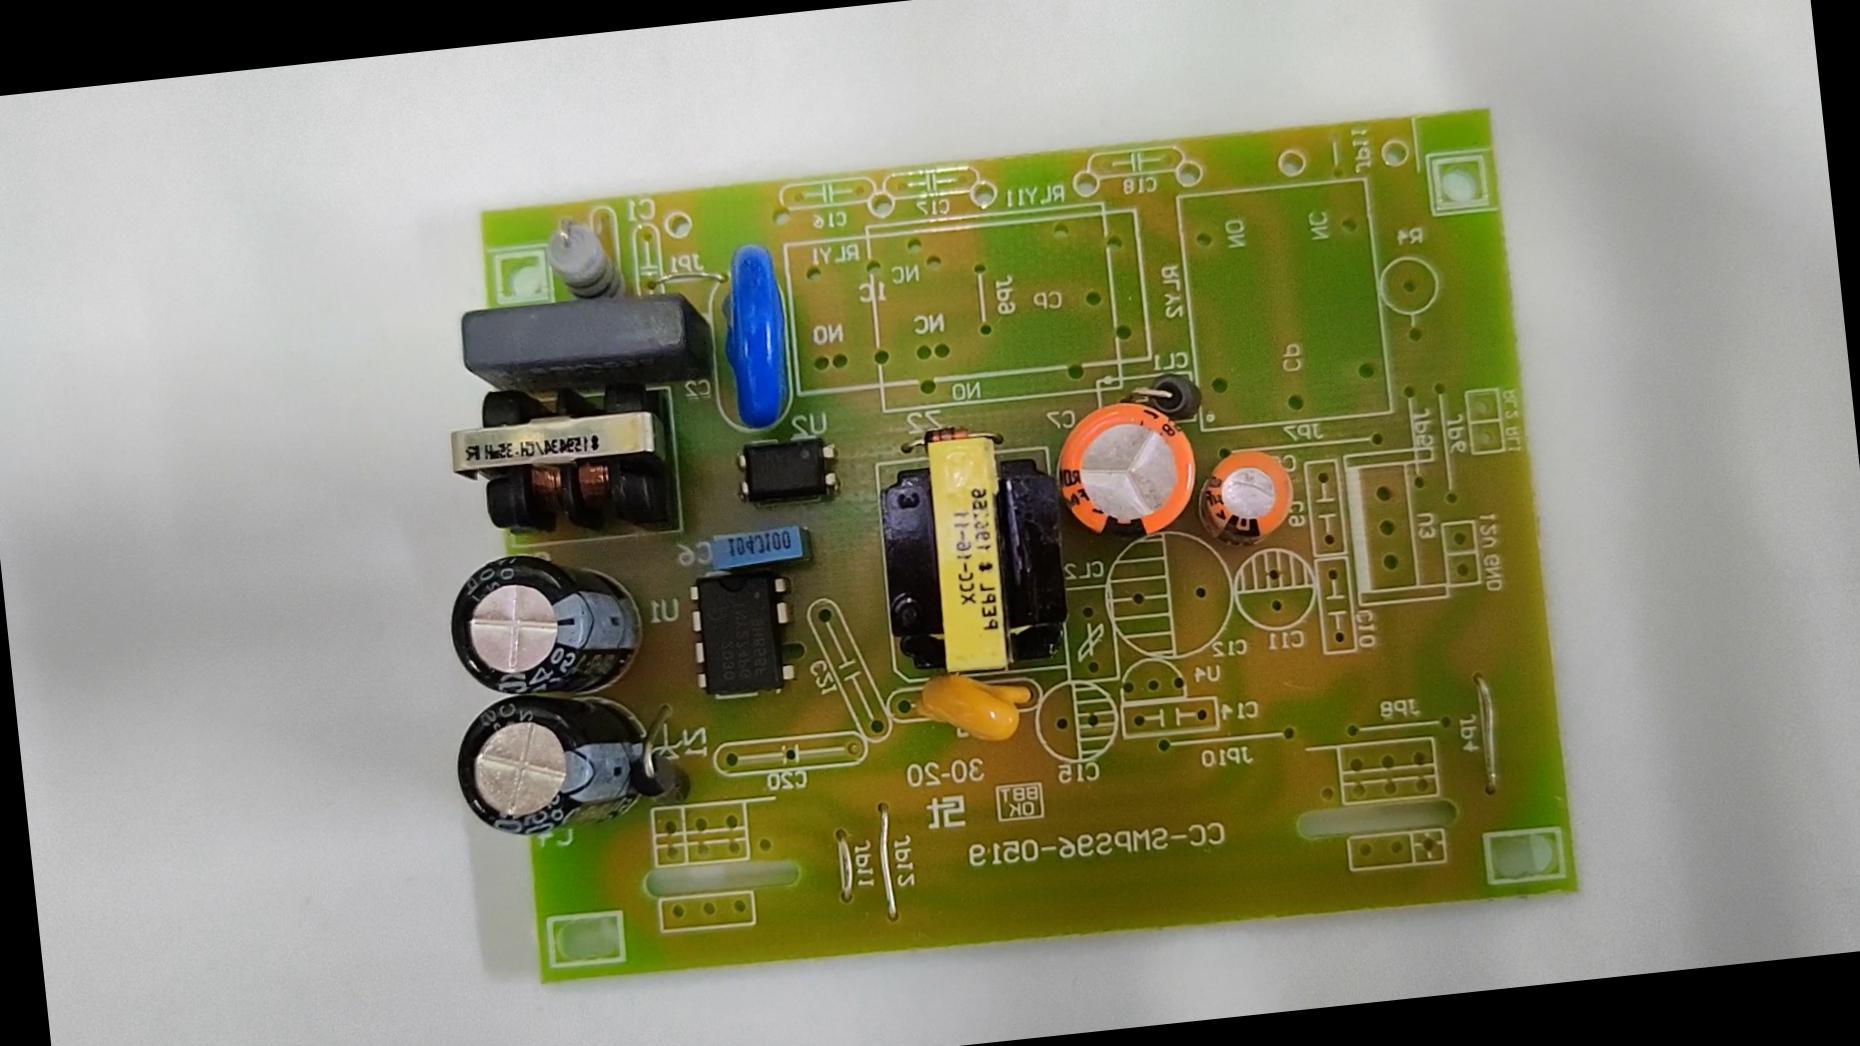Cap1: (1045, 387, 1205, 554)
Cap2: (1196, 433, 1303, 557)
Cap3: (432, 539, 652, 710)
Cap4: (439, 688, 660, 848)
MOSFET: (678, 559, 806, 709)
Mov: (705, 230, 807, 438)
Resistor: (533, 206, 622, 307)
Transformer: (864, 421, 1076, 690), (434, 375, 681, 548)
